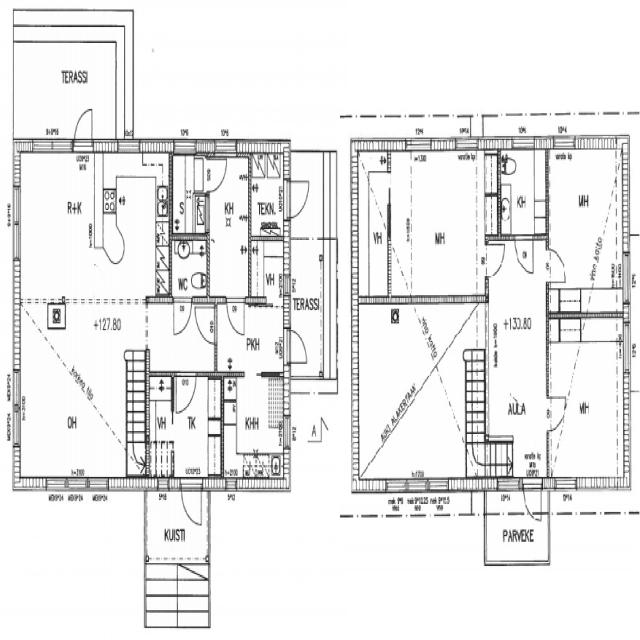door: (180, 478, 204, 528), (286, 176, 311, 220), (72, 103, 95, 149), (174, 370, 198, 414), (194, 301, 217, 346), (513, 232, 536, 276), (225, 293, 248, 337), (171, 294, 193, 338), (522, 478, 544, 522), (546, 244, 568, 286), (484, 237, 506, 279), (286, 326, 309, 366), (546, 390, 567, 432), (206, 156, 228, 193)
window: (28, 134, 74, 157), (11, 182, 23, 263), (10, 363, 22, 432), (620, 320, 632, 373), (86, 473, 110, 494), (622, 251, 632, 300), (552, 132, 576, 152), (116, 136, 142, 154), (496, 478, 522, 496), (554, 474, 579, 492), (45, 474, 68, 493), (427, 474, 451, 492), (214, 138, 238, 156), (510, 132, 534, 150), (408, 137, 433, 154), (172, 139, 196, 156), (386, 477, 408, 494), (225, 476, 237, 498), (157, 478, 170, 498), (450, 508, 461, 520)
zone: (391, 150, 492, 300), (16, 148, 104, 301), (487, 240, 549, 449), (548, 318, 624, 488), (547, 145, 621, 311), (12, 32, 120, 142), (102, 154, 170, 298), (231, 238, 286, 371), (220, 372, 286, 482), (207, 152, 250, 298), (171, 376, 222, 481), (218, 301, 285, 376), (358, 150, 389, 301), (498, 146, 548, 237), (171, 153, 207, 237), (147, 376, 174, 478), (170, 236, 209, 300), (249, 237, 286, 304), (250, 174, 287, 239)
